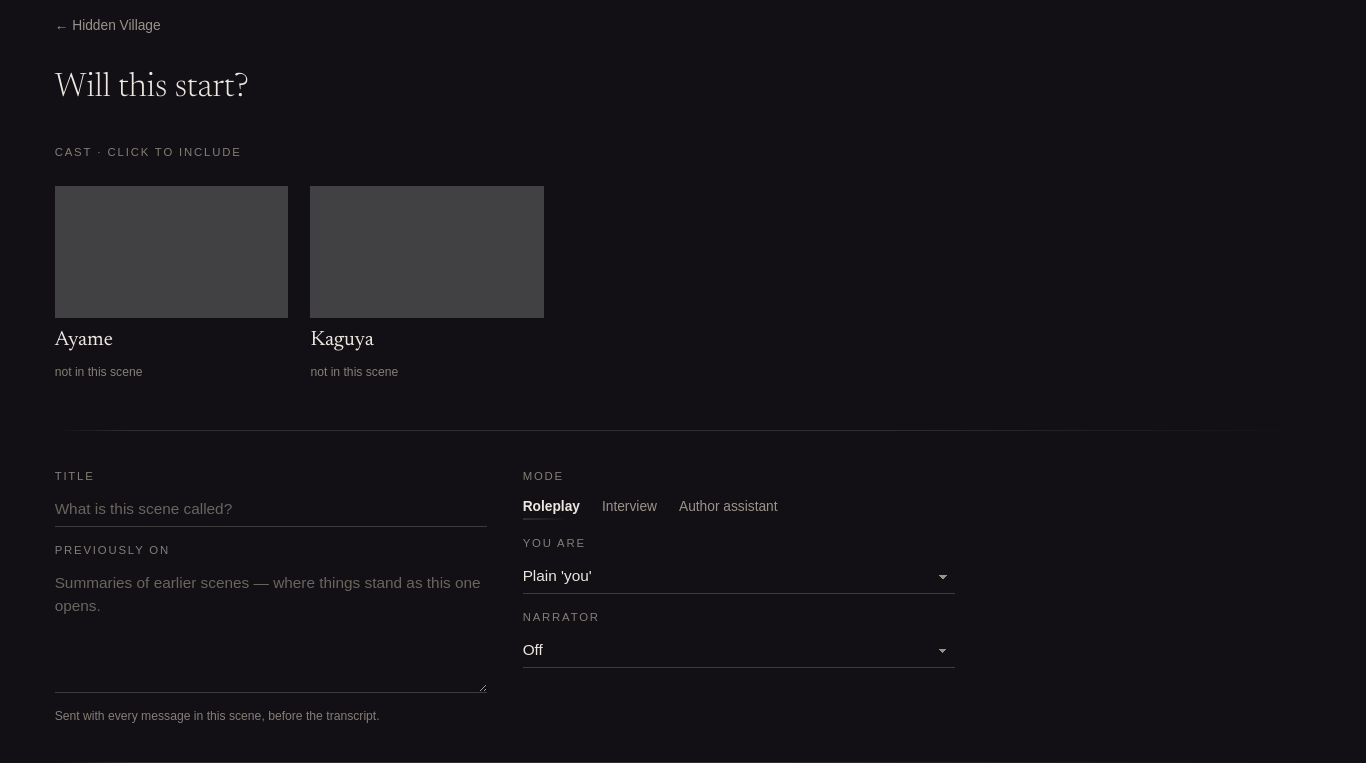
Test: choosing a cast › becomes ready once someone is cast, and can be undone
This screenshot has width=1366, height=763.
Click the button "Ayame not in this scene" at (172, 284), box 55,175 -> 288,394
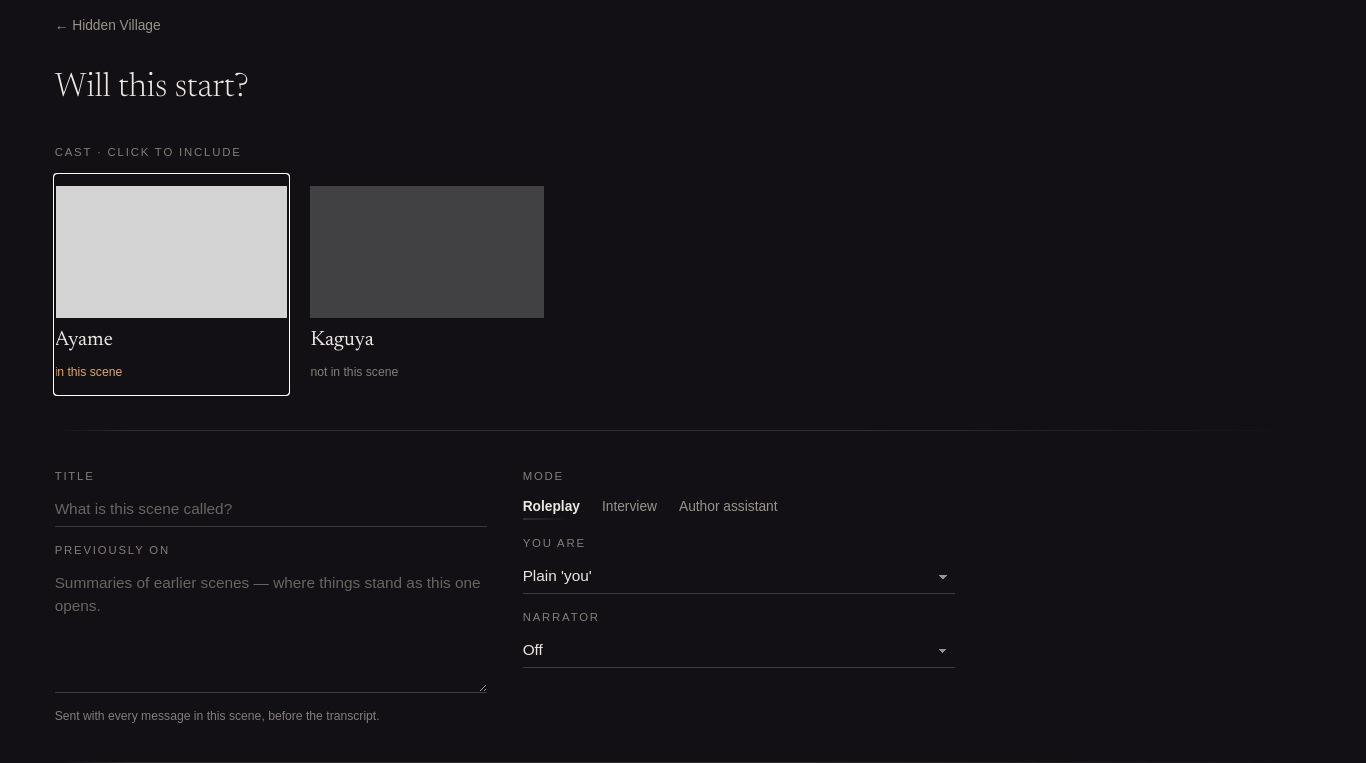
Click the button "Ayame in this scene" at (172, 284), box 55,175 -> 288,394
(page scrolled)
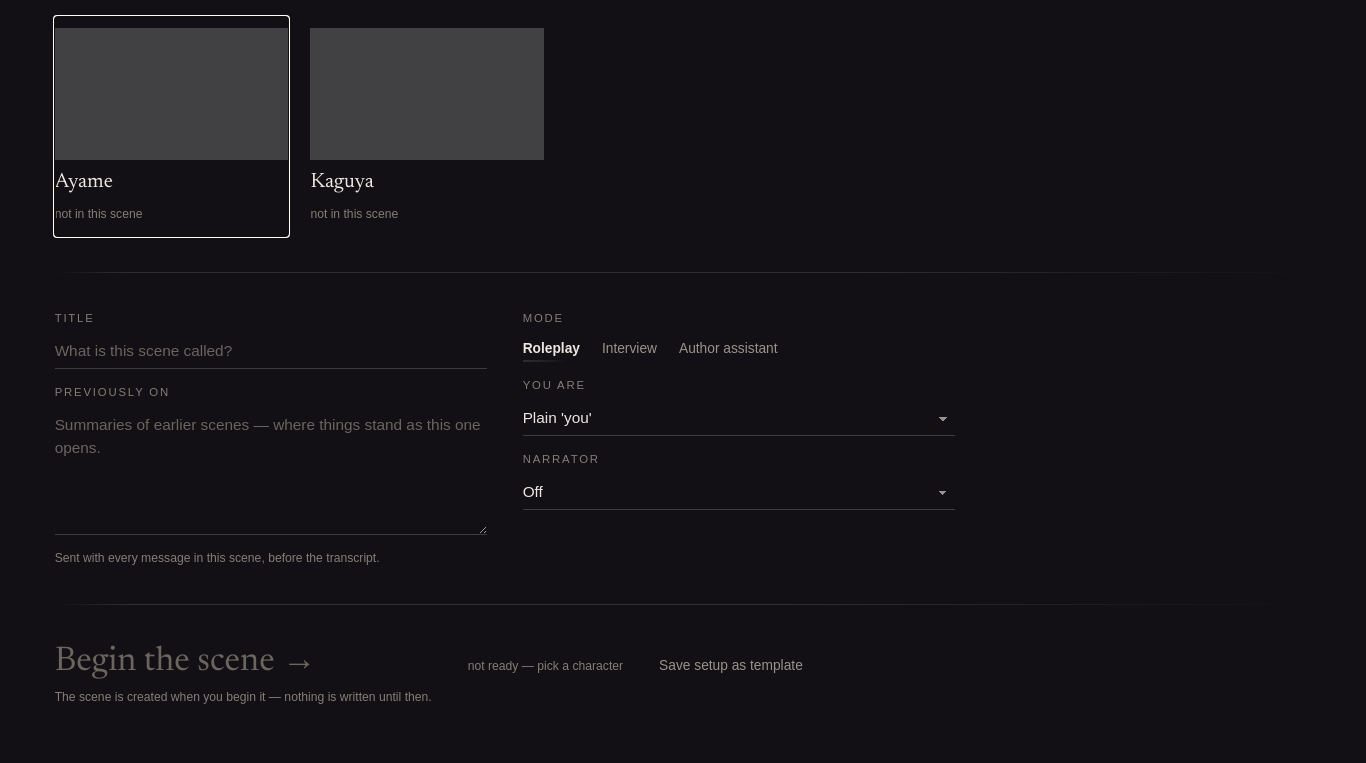
Check: the text "not ready — pick a character" is shown, box 468,658 -> 623,677
